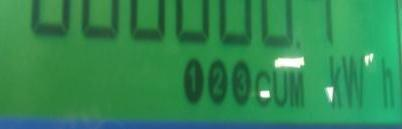.: (327, 54, 402, 113)
0: (295, 40, 303, 49)
1: (25, 0, 75, 42), (126, 0, 168, 46), (78, 0, 122, 43), (215, 0, 254, 47), (173, 0, 212, 45), (258, 0, 295, 47)
2: (318, 0, 338, 45)
